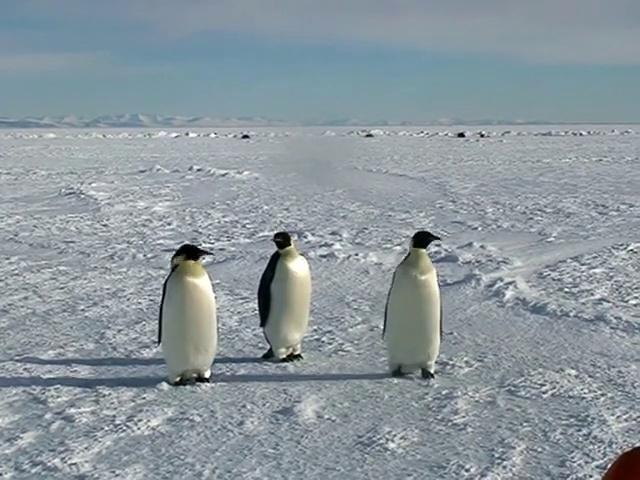animal: (384, 232, 444, 380)
